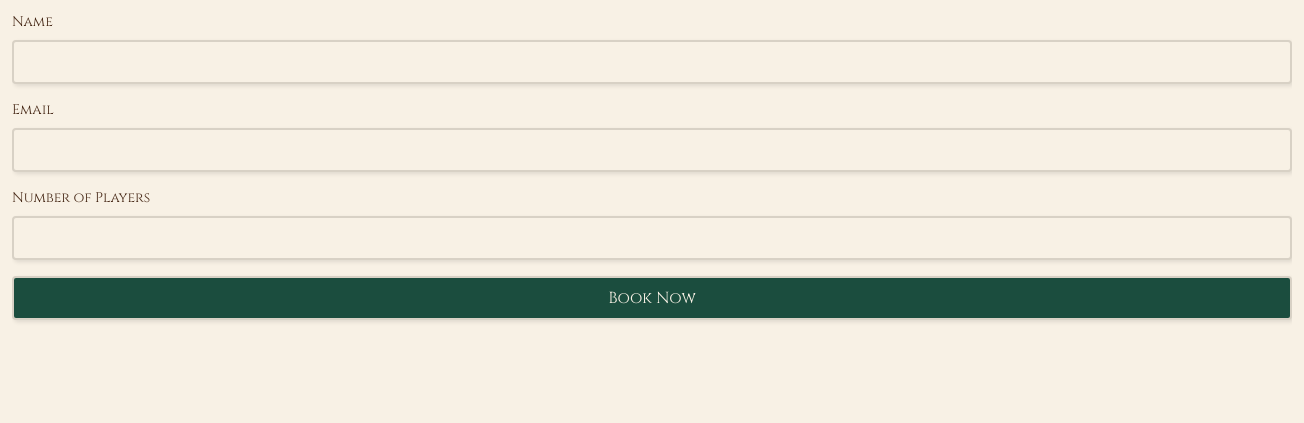
Test case: BookingForm › shows error message when required fields are empty
Click the button "Book Now" at point(652, 298), box x1=12 y1=276 x2=1292 y2=320
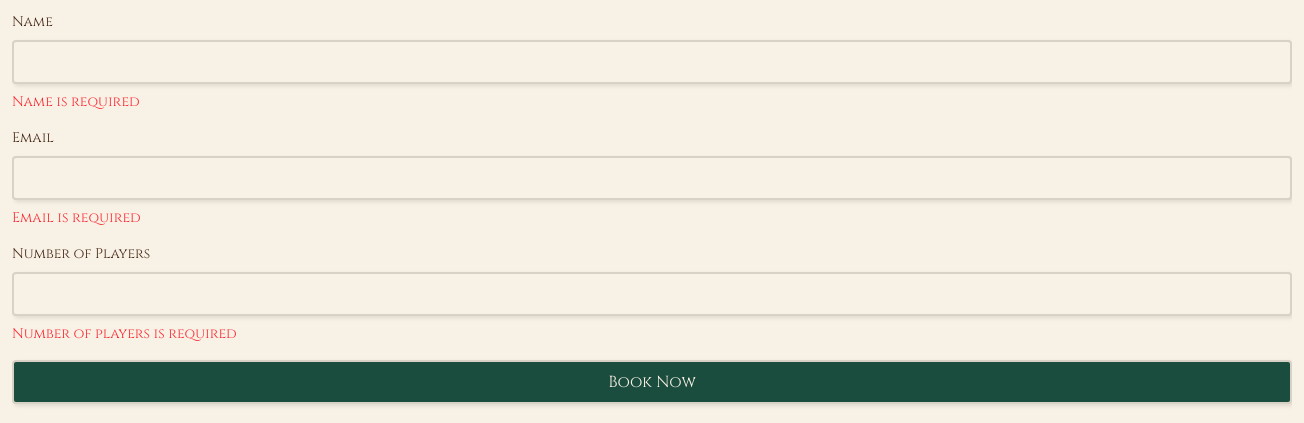
Now the text "Name is required" is shown, box x1=12 y1=92 x2=140 y2=111
Now the text "Email is required" is shown, box x1=12 y1=208 x2=141 y2=227
Now the text "Number of players is required" is shown, box x1=12 y1=324 x2=237 y2=343
